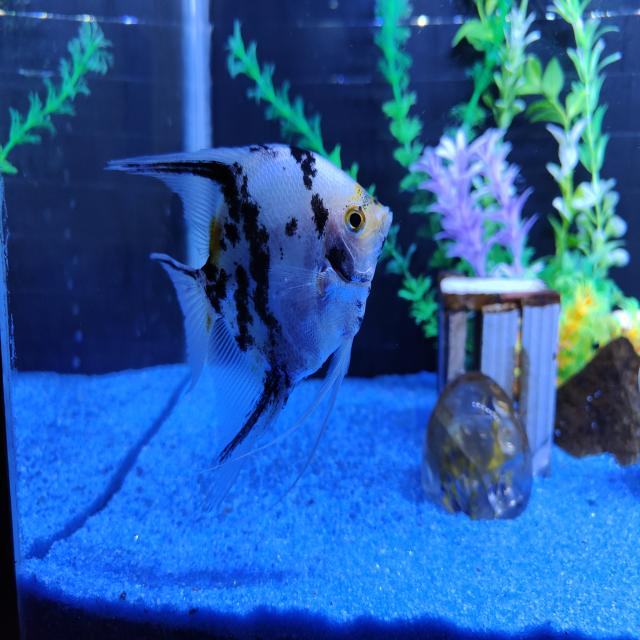Fish: (109, 145, 392, 507)
